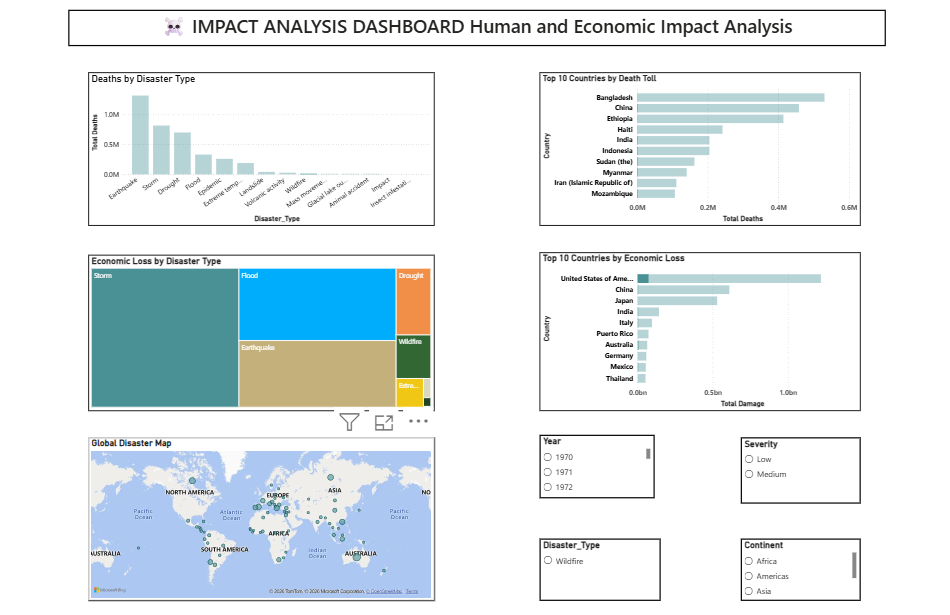

This screenshot's page, from the dashboard's own definition file:
{"tool":"powerbi","page":{"name":"Impact Analysis Dashboard","canvas":[1920,1250],"ordinal":1},"visuals":[{"type":"clusteredColumnChart","title":"Deaths by Disaster Type","fields":{"Category":["disaster_cleaned.Disaster_Type"],"Y":["disaster_cleaned.Total Deaths"]},"box":[182.5,152.5,692.5,307.5],"z":0},{"type":"clusteredBarChart","title":"Top 10 Countries by Death Toll","fields":{"Category":["disaster_cleaned.Country"],"Y":["disaster_cleaned.Total Deaths"]},"box":[1085,152.5,642.5,307.5],"z":1000},{"type":"treemap","title":"Economic Loss by Disaster Type","fields":{"Group":["disaster_cleaned.Disaster_Type"],"Values":["disaster_cleaned.Total Damage"]},"box":[182.5,517.5,692.5,312.5],"z":2000},{"type":"clusteredBarChart","title":"Top 10 Countries by Economic Loss","fields":{"Category":["disaster_cleaned.Country"],"Y":["disaster_cleaned.Total Damage"]},"box":[1085,512.5,642.5,317.5],"z":3000},{"type":"map","title":"Global Disaster Map","fields":{"Size":["disaster_cleaned.Total Disasters"],"Category":["disaster_cleaned.Country"]},"box":[182.5,882.5,692.5,327.5],"z":4000},{"type":"textbox","box":[142.5,27.5,1635,72.5],"z":5000},{"type":"listSlicer","fields":{"Values":["disaster_cleaned.Year"]},"box":[1085,877.5,230,127.5],"z":6000},{"type":"listSlicer","fields":{"Values":["disaster_cleaned.Disaster_Type"]},"box":[1085,1085,242.5,125],"z":7000},{"type":"listSlicer","fields":{"Values":["disaster_cleaned.Continent"]},"box":[1487.5,1085,240,125],"z":8000},{"type":"listSlicer","fields":{"Values":["disaster_cleaned.Severity"]},"box":[1487.5,882.5,240,132.5],"z":9000}]}

Visuals, with their boxes in screenshot pixels (x1, y1, x2, y2), scaled from the page's 1920x1250 canvas onto the 950x615 screenshot:
"Deaths by Disaster Type" clusteredColumnChart: {"left": 90, "top": 75, "right": 433, "bottom": 226}
"Top 10 Countries by Death Toll" clusteredBarChart: {"left": 537, "top": 75, "right": 855, "bottom": 226}
"Economic Loss by Disaster Type" treemap: {"left": 90, "top": 255, "right": 433, "bottom": 408}
"Top 10 Countries by Economic Loss" clusteredBarChart: {"left": 537, "top": 252, "right": 855, "bottom": 408}
"Global Disaster Map" map: {"left": 90, "top": 434, "right": 433, "bottom": 595}
textbox: {"left": 71, "top": 14, "right": 879, "bottom": 49}
listSlicer - disaster_cleaned.Year: {"left": 537, "top": 432, "right": 651, "bottom": 494}
listSlicer - disaster_cleaned.Disaster_Type: {"left": 537, "top": 534, "right": 657, "bottom": 595}
listSlicer - disaster_cleaned.Continent: {"left": 736, "top": 534, "right": 855, "bottom": 595}
listSlicer - disaster_cleaned.Severity: {"left": 736, "top": 434, "right": 855, "bottom": 499}
